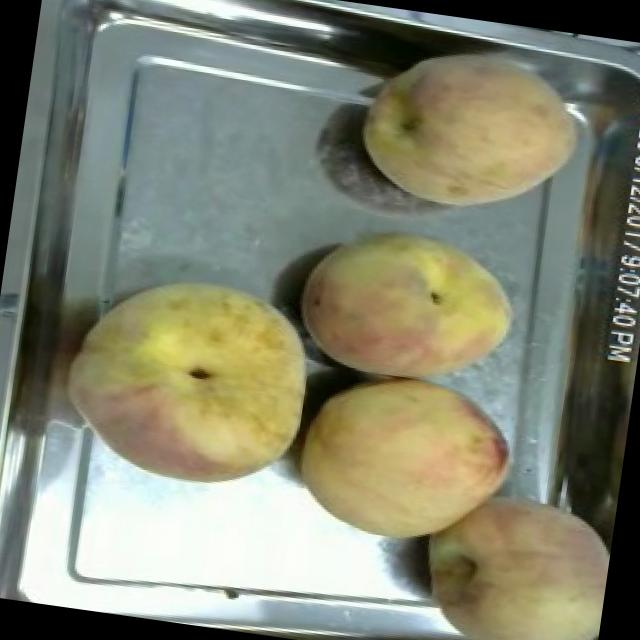Fruit: (48, 253, 334, 510), (339, 22, 608, 240), (278, 200, 540, 402), (282, 361, 530, 568), (401, 472, 617, 640)
